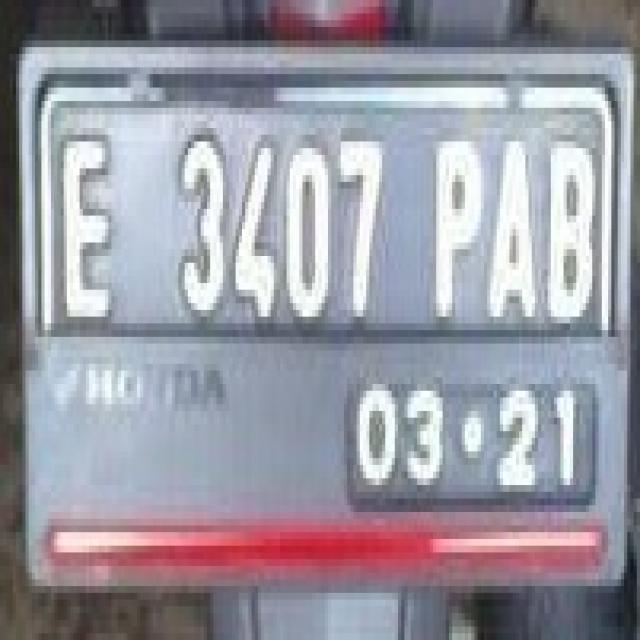plate: (28, 61, 618, 526)
